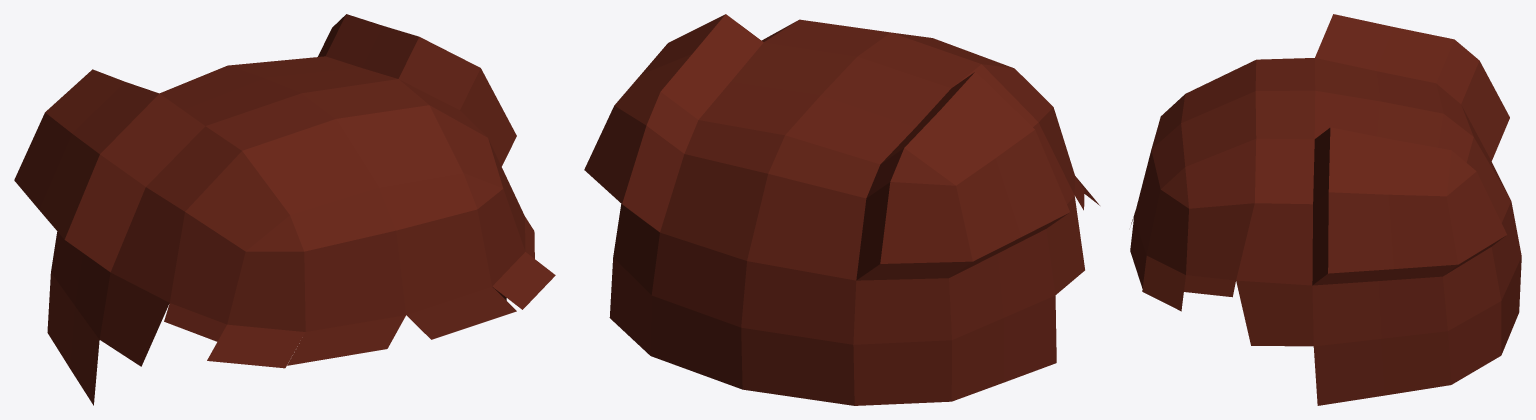
The model's file is Hair4.fbx.
The picture shows the model from 3 angles, left to right: view 1: azimuth 30°, elevation 25°; view 2: azimuth 150°, elevation 25°; view 3: azimuth 270°, elevation 25°; orthographic projection. The views are drawn at different scales.
Visible parts, largest first — view 1: Hair6; view 2: Hair6; view 3: Hair6.
Boxes of the visible parts, <box> form: Hair6: <box>14,14,555,405</box>; Hair6: <box>584,14,1099,405</box>; Hair6: <box>1130,14,1521,405</box>.
Size of the model in its own units: 92.5 by 56.44 by 80.59.
